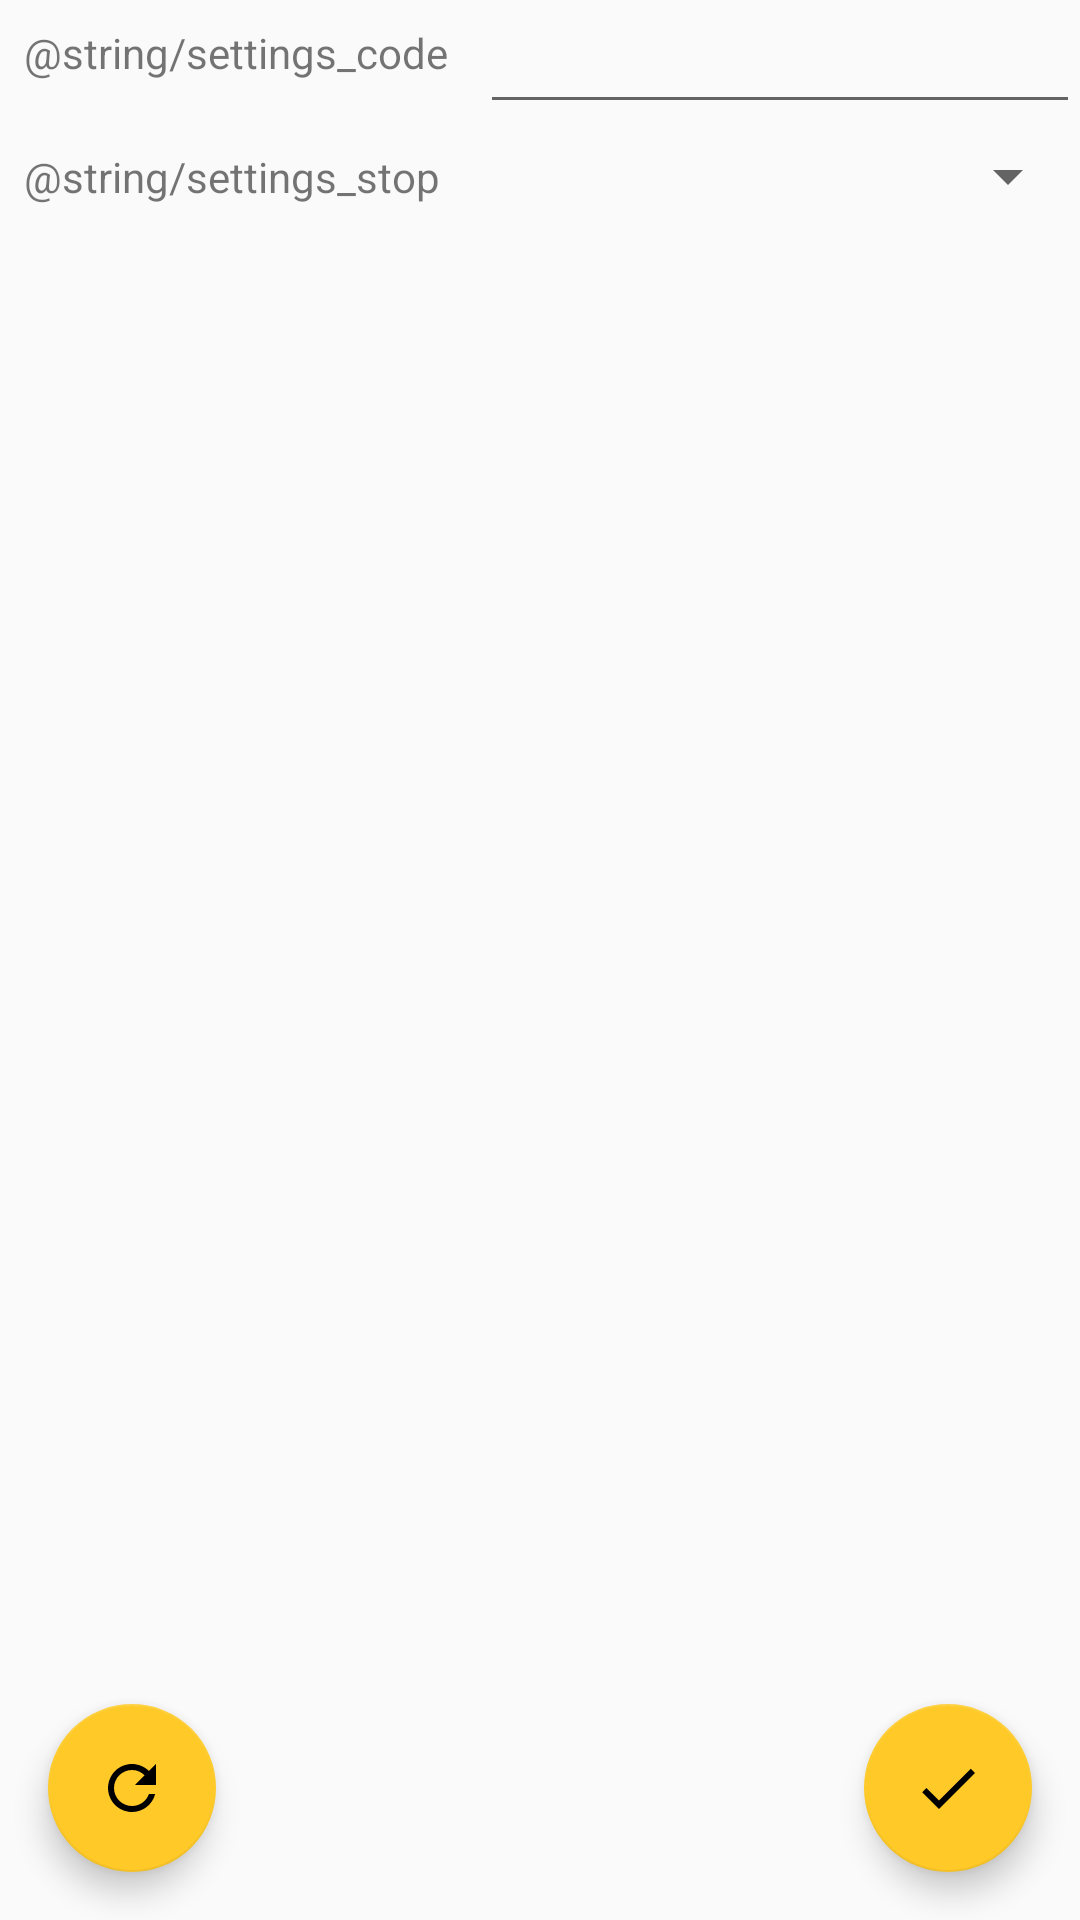

Where to tap for icons on this 1080w x 1920h app screen, as (x,y):
done: (948,1788)
refresh: (132,1788)
